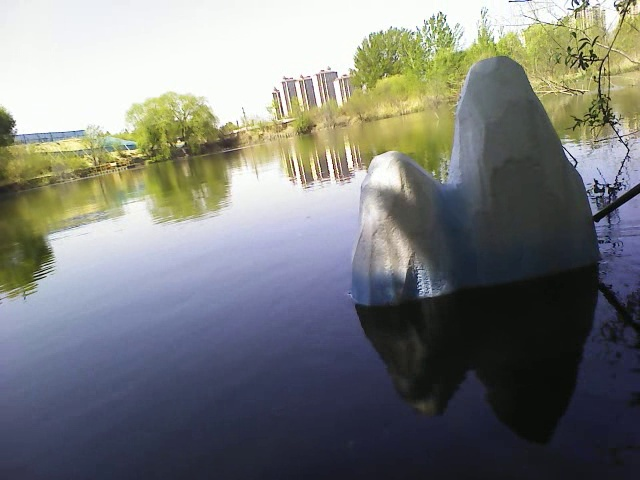iceberg: (343, 54, 606, 306)
